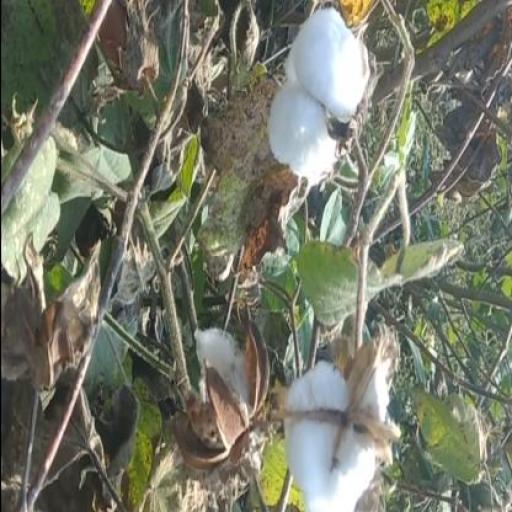cotton_ready: (267, 334, 405, 510), (269, 6, 375, 192)
